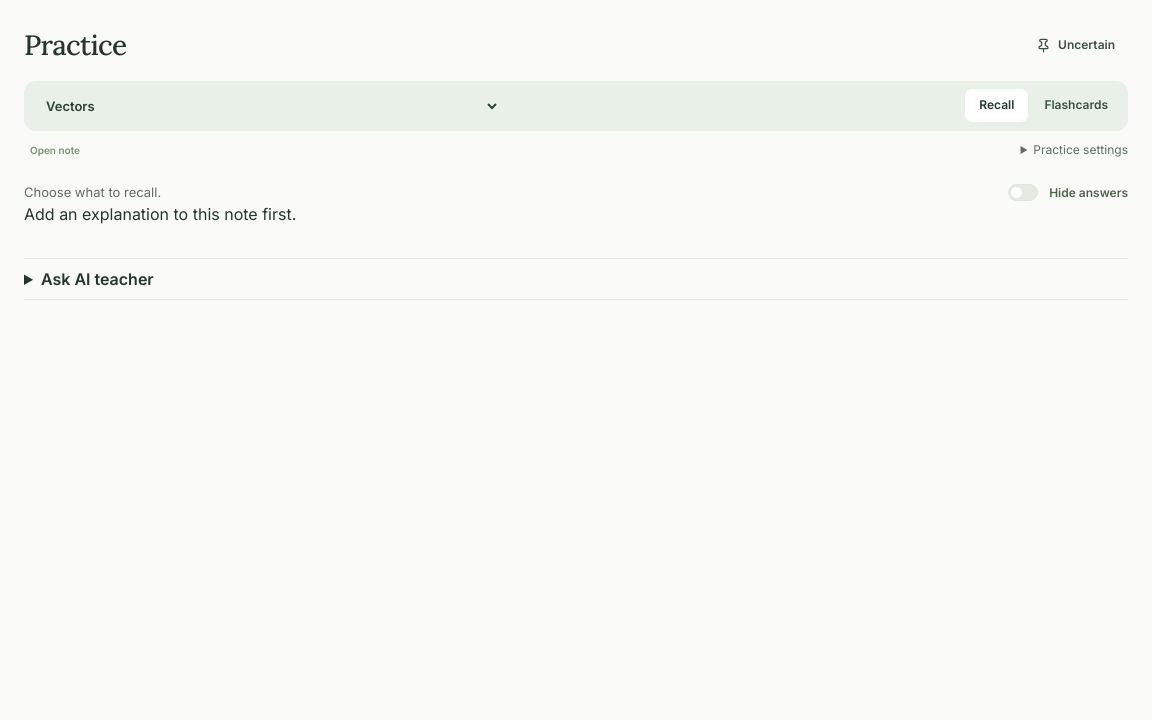
shows a cached flashcard hint and source without generating on navigation
The width and height of the screenshot is (1152, 720).
Step 1. Click the button "Flashcards" → click(1076, 106), box [1030, 89, 1122, 122]
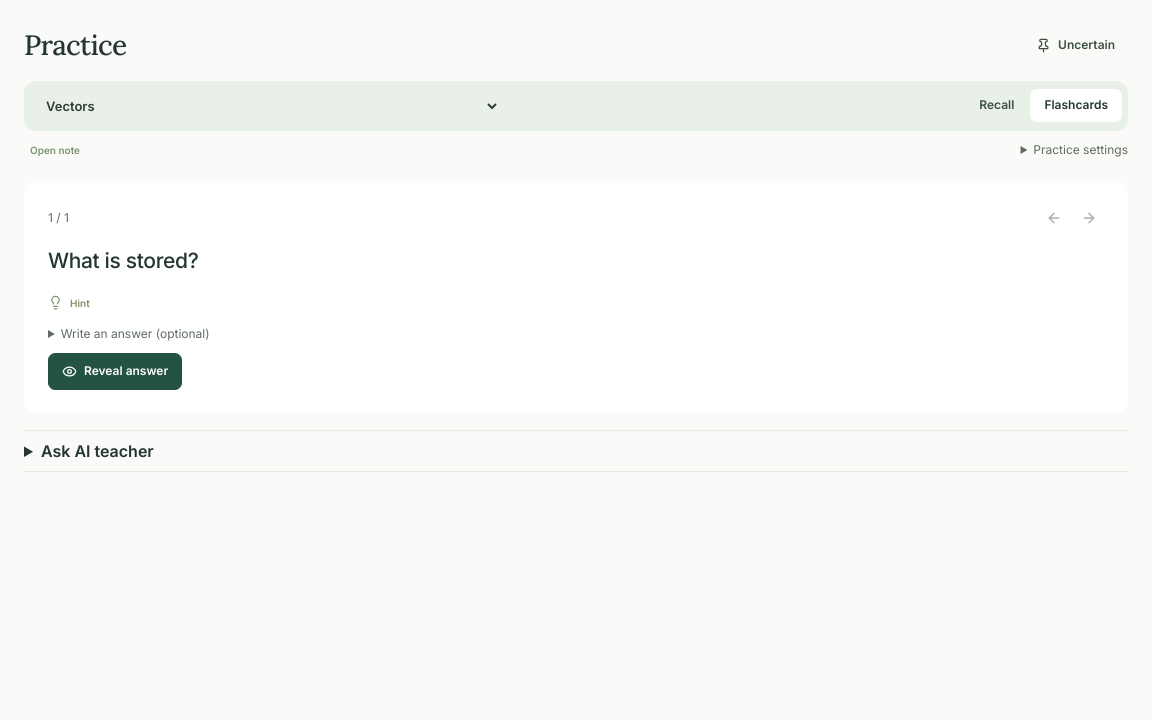
Expected: the text "Coordinates" is not shown
Expected: the heading "What is stored?" is shown, [48, 248, 198, 273]
Step 2. Click the button "Hint" → click(69, 303), box [48, 295, 90, 310]
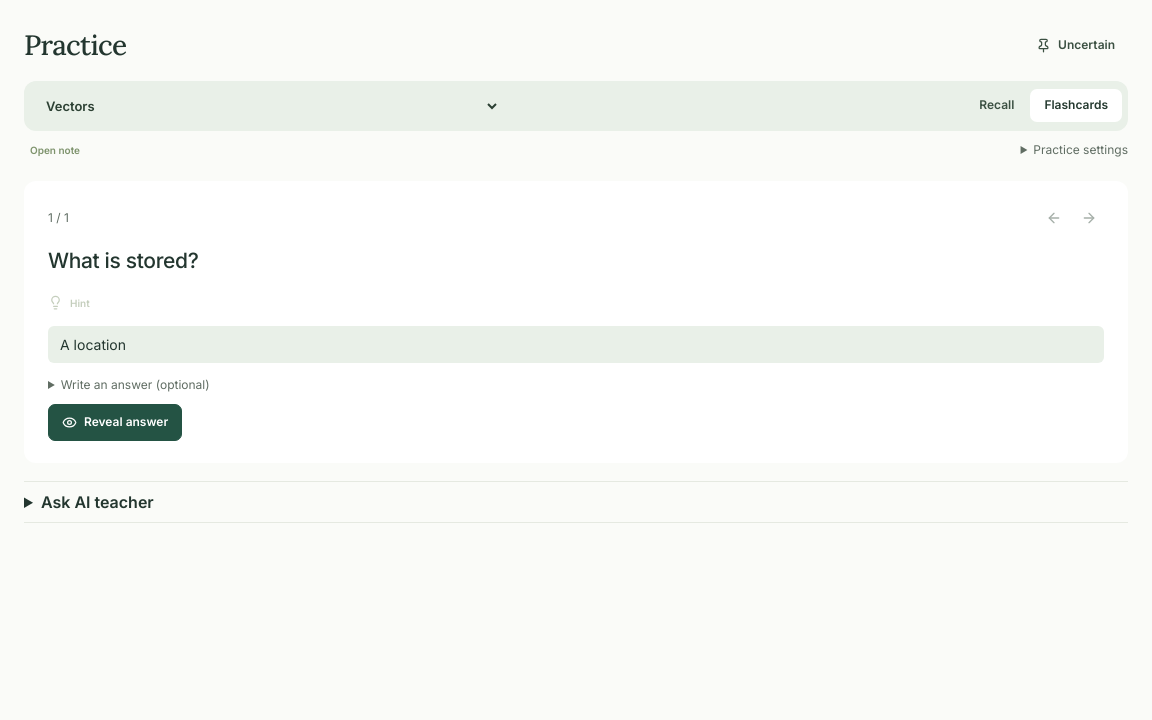
Expected: the text "A location" is shown, [48, 326, 1104, 363]
Step 3. Click the button "Reveal answer" → click(115, 423), box [48, 404, 182, 441]
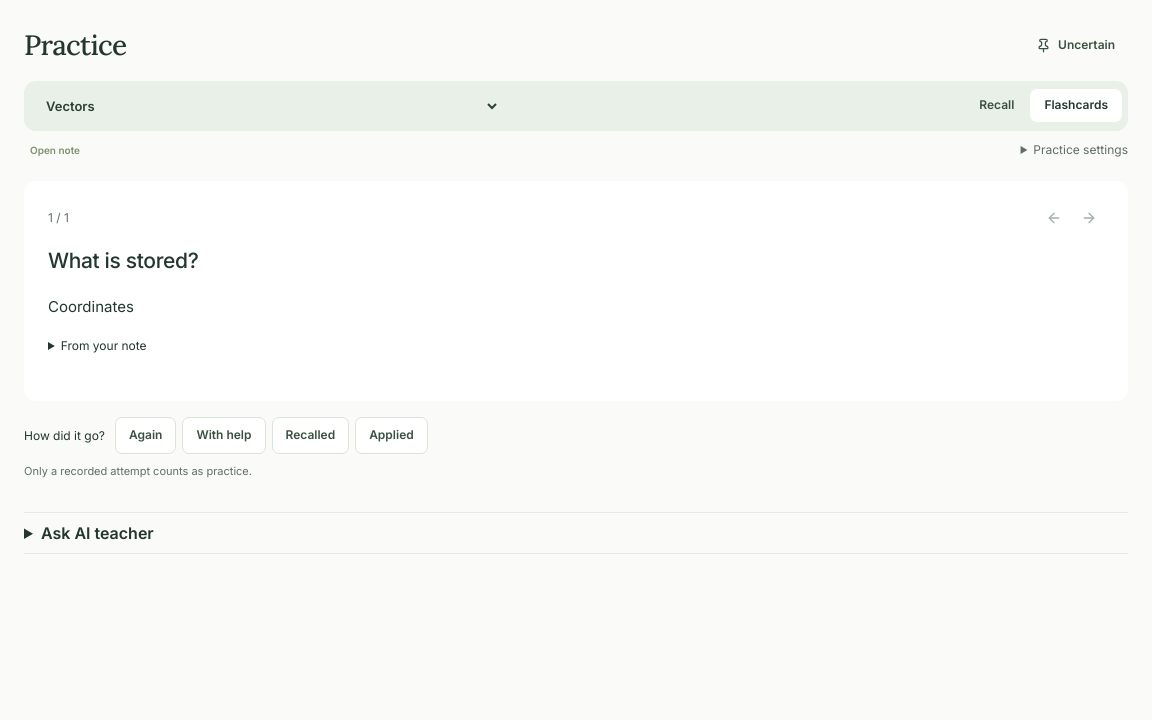
Expected: the text "Coordinates" is shown, [48, 297, 134, 316]
